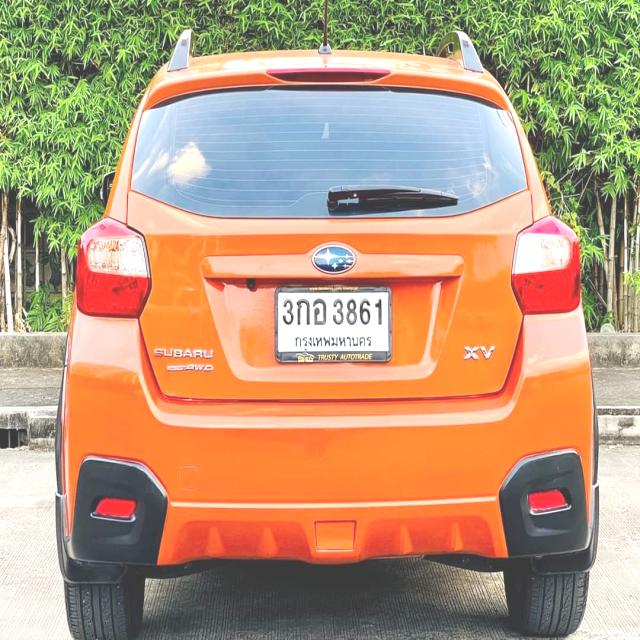license_plate: (274, 284, 396, 366)
